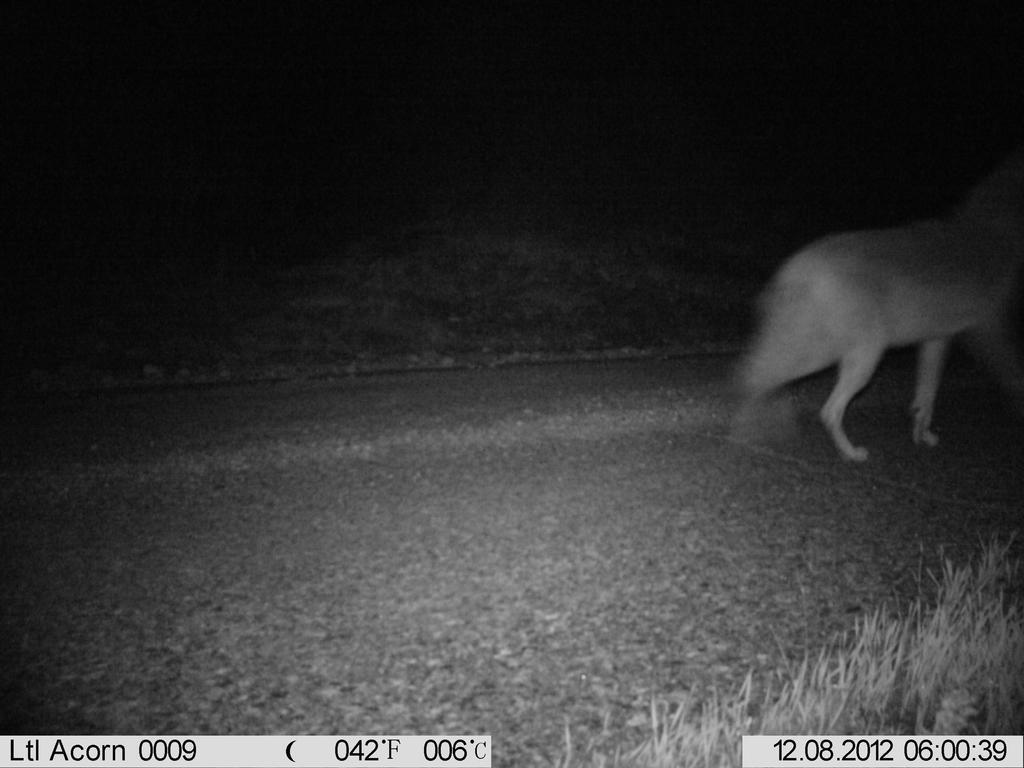coyote: (717, 189, 1023, 470)
